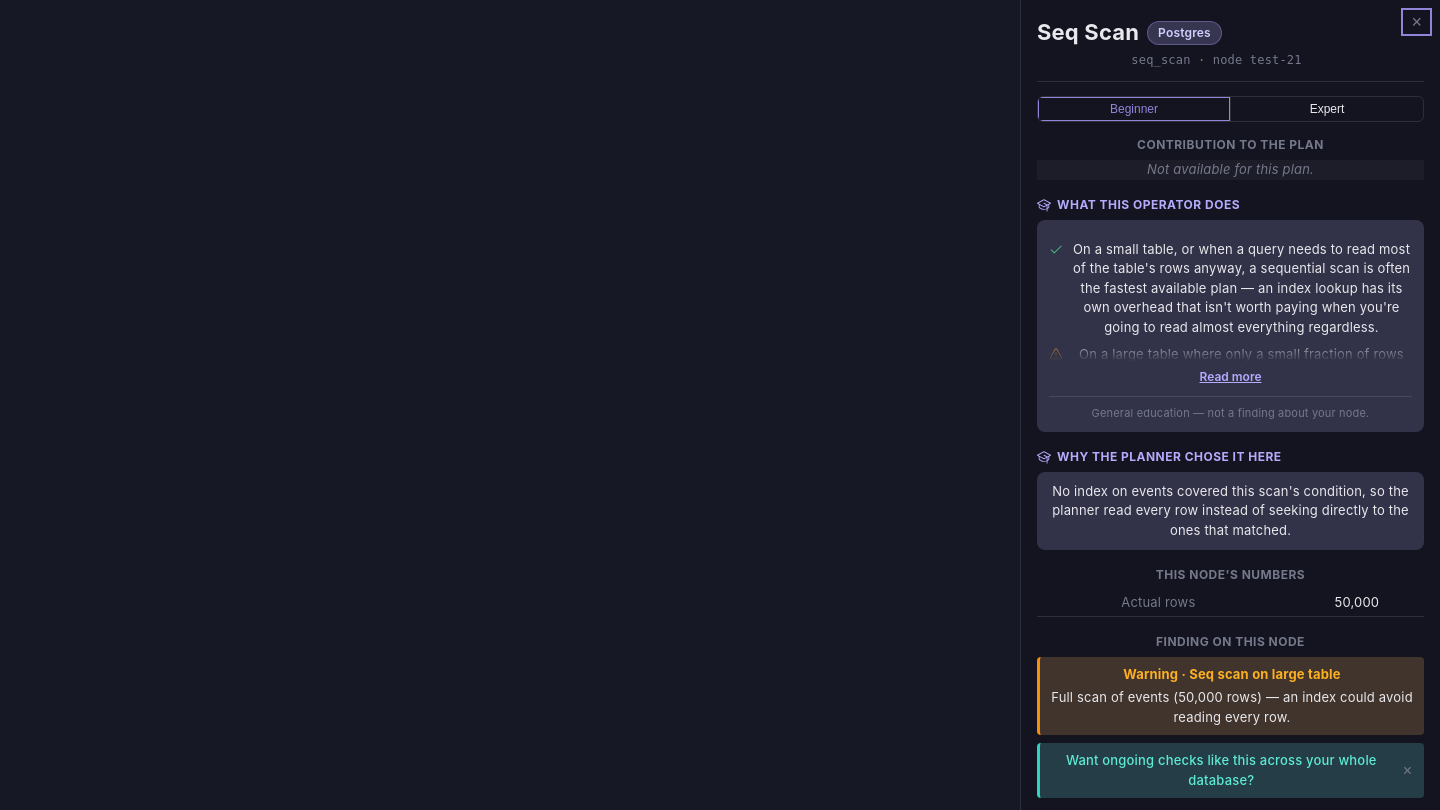
Test: DetailPanel › Episode 18, Story 18.7 — Beginner/Expert densities (spec §5 1f) › shows each finding's ruleId in Expert mode, never in Beginner
The width and height of the screenshot is (1440, 810).
Click the button "Expert" at (1326, 109), box [1230,97,1423,121]
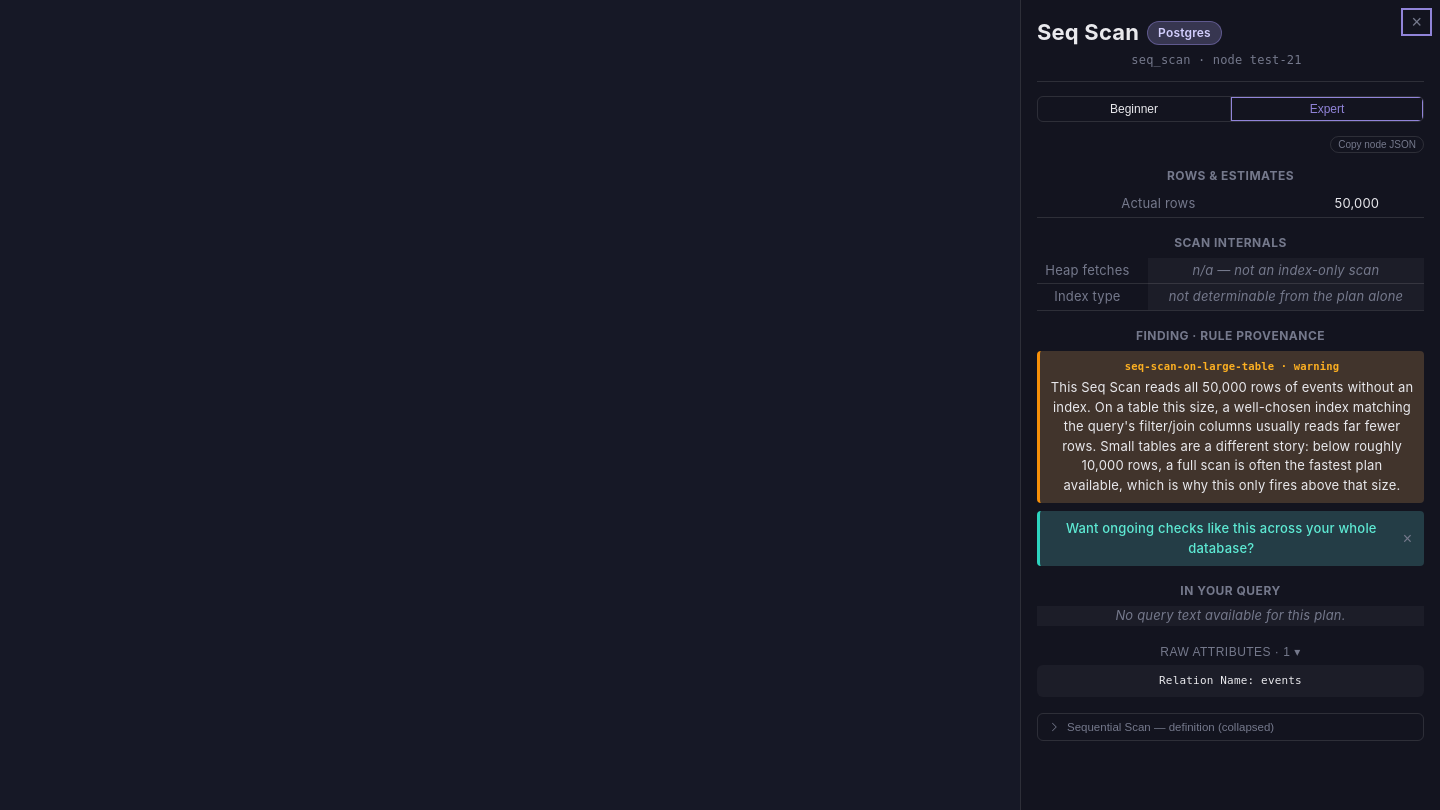
Check: the text with test id "warning-rule-id" shows "seq-scan-on-large-table", box [1125,360,1274,372]
